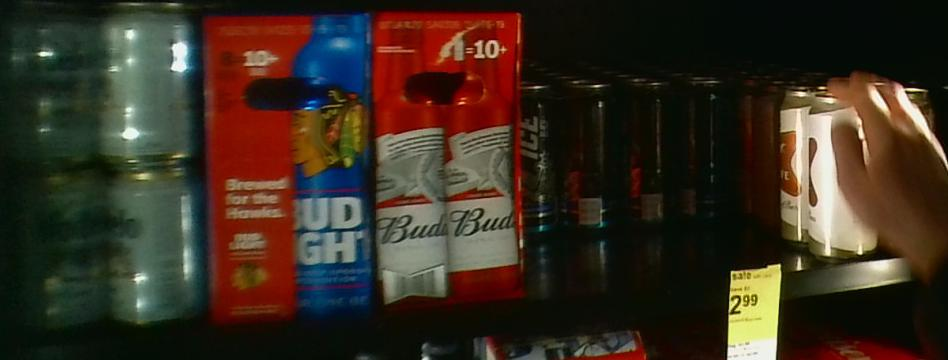bottle: (10, 1, 202, 326), (206, 4, 374, 326), (370, 8, 525, 306), (624, 80, 739, 228), (520, 81, 622, 238)
